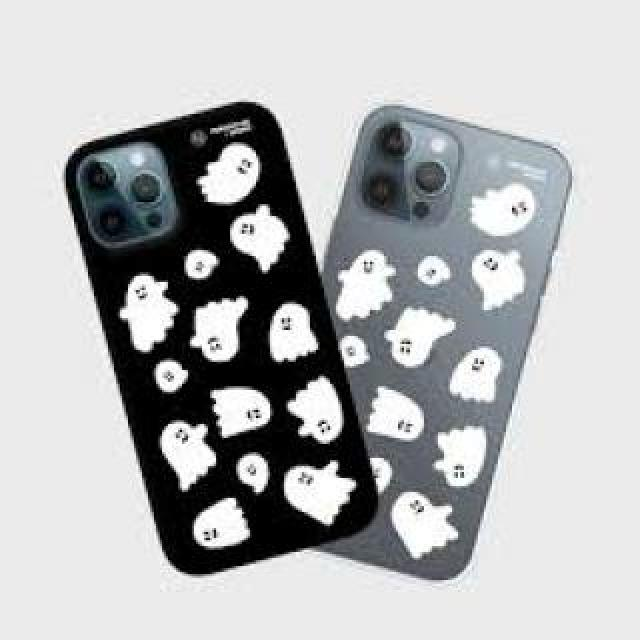smart phone: (72, 100, 360, 552), (326, 120, 592, 575)
